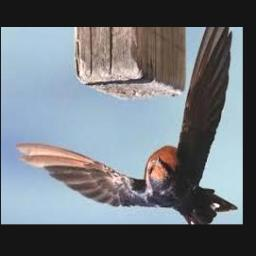Swallow: (16, 27, 238, 224)
